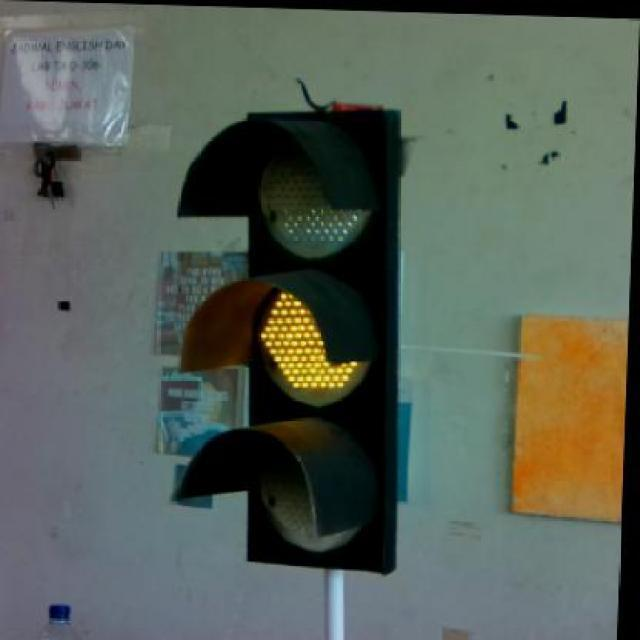yellow_light: (174, 108, 401, 573)
